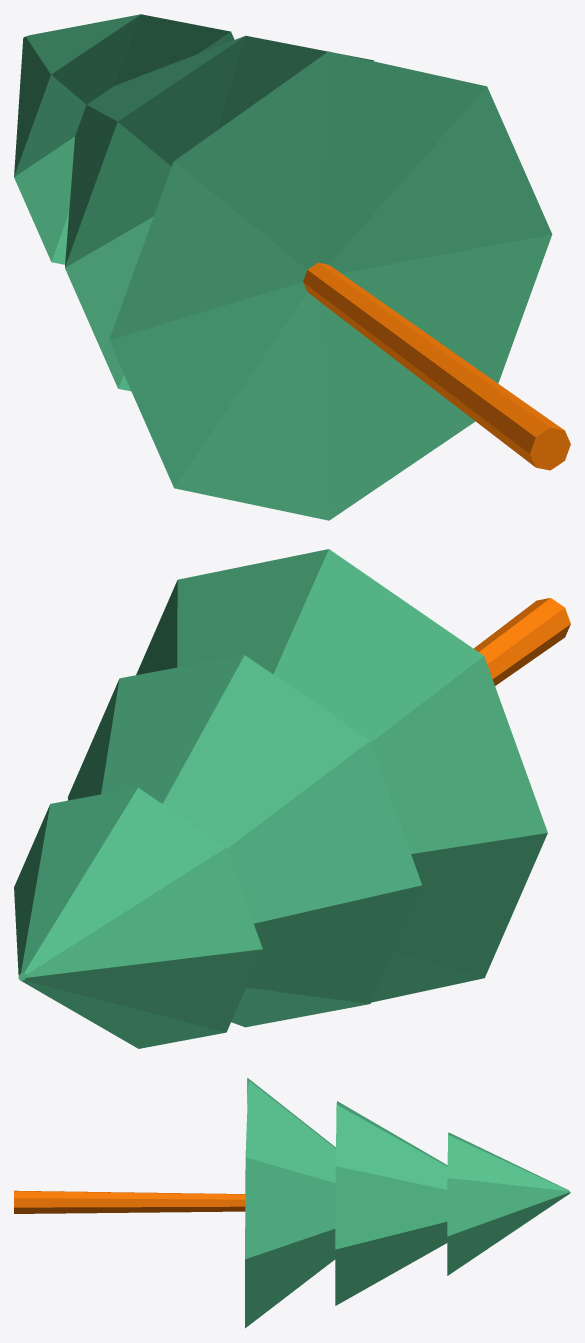
The model's file is Tree Low Poly Pine 2.fbx.
The picture shows the model from 3 angles, top to bottom: view 1: azimuth 30°, elevation 25°; view 2: azimuth 150°, elevation 25°; view 3: azimuth 270°, elevation 25°; orthographic projection. The views are drawn at different scales.
Parts seen in each view (by area): view 1: Cylinder; view 2: Cylinder; view 3: Cylinder.
Boxes of the visible parts, x1,y1,x2,y2 form: Cylinder: (14,14,570,520); Cylinder: (14,549,570,1048); Cylinder: (14,1078,570,1328).
Bounding box in the file's own units: 487 × 495 × 1016.
